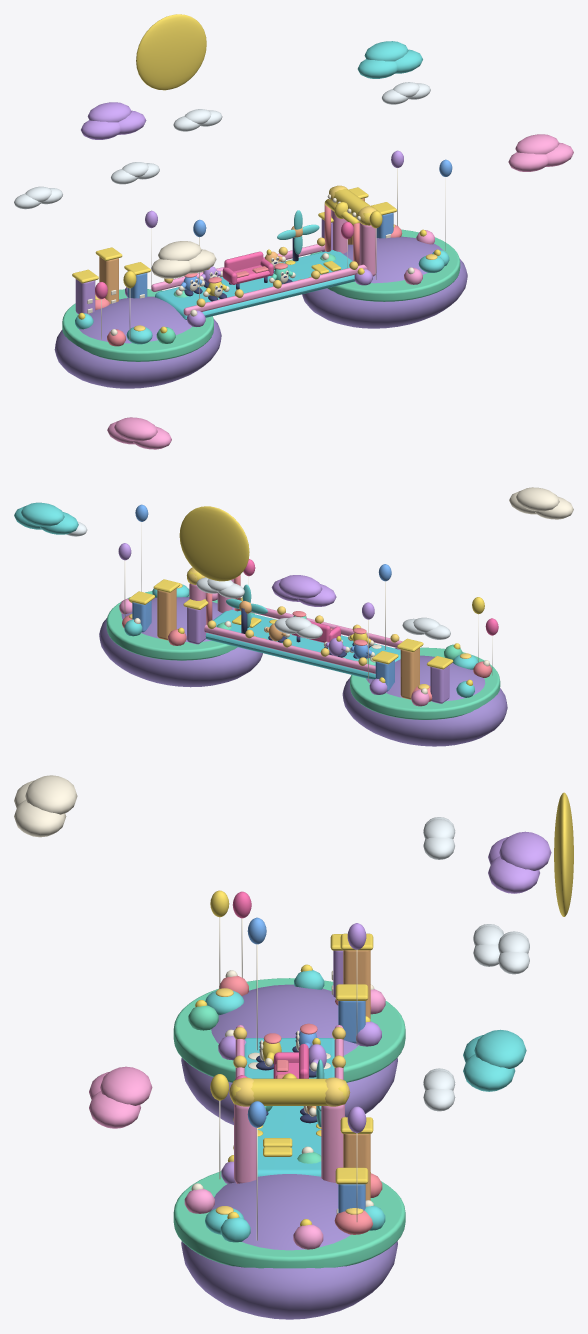
Rendered from squad-party-world.glb.
3 renders of one model, top to bottom at view 1: azimuth 30°, elevation 25°; view 2: azimuth 150°, elevation 25°; view 3: azimuth 270°, elevation 25°, orthographic. The views are drawn at different scales.
Parts seen in each view (by area): view 1: ENV_left_floating_body, ENV_right_floating_body, SKY_peach_sun, HERO_wide_rounded_bridge, ENV_left_grassy_top, ENV_right_grassy_top, ENV_bridge_side_rail_-1, GOAL_foam_column_-1, SKY_puff_3_1, SKY_puff_1_1, SKY_puff_2_1, SKY_puff_0_1 (+9 smaller); view 2: ENV_left_floating_body, ENV_right_floating_body, SKY_peach_sun, ENV_left_grassy_top, HERO_wide_rounded_bridge, ENV_right_grassy_top, ENV_bridge_side_rail_1, CITY_R_house_1, CITY_L_house_1, SKY_puff_2_1, SKY_puff_3_1, SKY_puff_0_1 (+9 smaller); view 3: ENV_right_floating_body, ENV_left_floating_body, ENV_right_grassy_top, ENV_left_grassy_top, HERO_wide_rounded_bridge, GOAL_curved_arch, SKY_peach_sun, GOAL_foam_column_-1, GOAL_foam_column_1, SKY_puff_0_1, SKY_puff_2_1, SKY_puff_3_1 (+10 smaller).
Boxes of the visible parts, x1,y1,x2,y2 form: ENV_left_floating_body: (54, 296, 221, 388); ENV_right_floating_body: (302, 236, 467, 328); SKY_peach_sun: (136, 14, 206, 90); HERO_wide_rounded_bridge: (155, 250, 354, 319); ENV_left_grassy_top: (62, 289, 213, 361); ENV_right_grassy_top: (310, 229, 460, 301); ENV_bridge_side_rail_-1: (183, 264, 367, 315); GOAL_foam_column_-1: (359, 223, 376, 276); SKY_puff_3_1: (515, 134, 559, 154); SKY_puff_1_1: (87, 102, 131, 122); SKY_puff_2_1: (364, 41, 408, 61); SKY_puff_0_1: (158, 241, 201, 260); ENV_left_floating_body: (342, 655, 507, 746); ENV_right_floating_body: (99, 597, 262, 687); SKY_peach_sun: (179, 506, 249, 581); ENV_left_grassy_top: (350, 647, 500, 719); HERO_wide_rounded_bridge: (205, 609, 400, 679); ENV_right_grassy_top: (106, 589, 254, 660); ENV_bridge_side_rail_1: (204, 624, 375, 673); CITY_R_house_1: (157, 588, 176, 640); CITY_L_house_1: (400, 648, 419, 699); SKY_puff_2_1: (21, 502, 64, 526); SKY_puff_3_1: (114, 417, 157, 441); SKY_puff_0_1: (516, 487, 559, 511); ENV_right_floating_body: (181, 1174, 397, 1319); ENV_left_floating_body: (181, 984, 397, 1124); ENV_right_grassy_top: (173, 1171, 405, 1268); ENV_left_grassy_top: (173, 978, 405, 1082); HERO_wide_rounded_bridge: (244, 1038, 334, 1176); GOAL_curved_arch: (230, 1078, 348, 1105); SKY_peach_sun: (554, 792, 573, 916); GOAL_foam_column_-1: (234, 1104, 256, 1183); GOAL_foam_column_1: (321, 1104, 344, 1182); SKY_puff_0_1: (25, 775, 77, 814); SKY_puff_2_1: (474, 1029, 526, 1068); SKY_puff_3_1: (100, 1066, 152, 1105).
Size of the model in its own units: 32 by 17.9 by 22.45.
